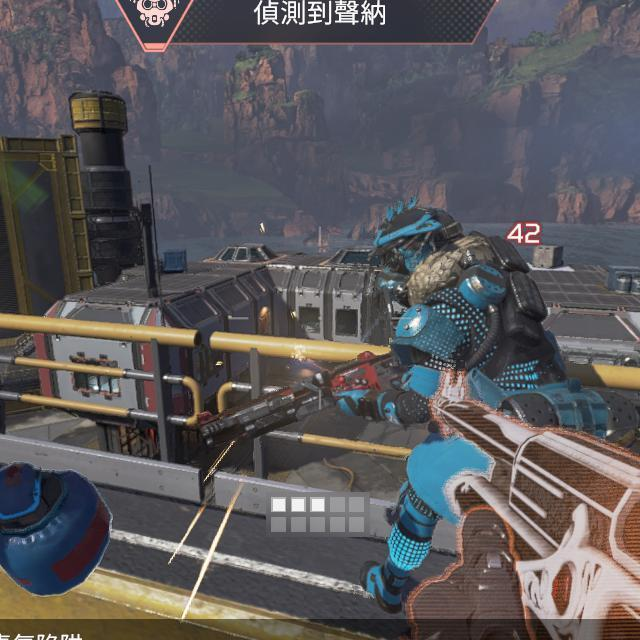avatar: (334, 199, 616, 608)
